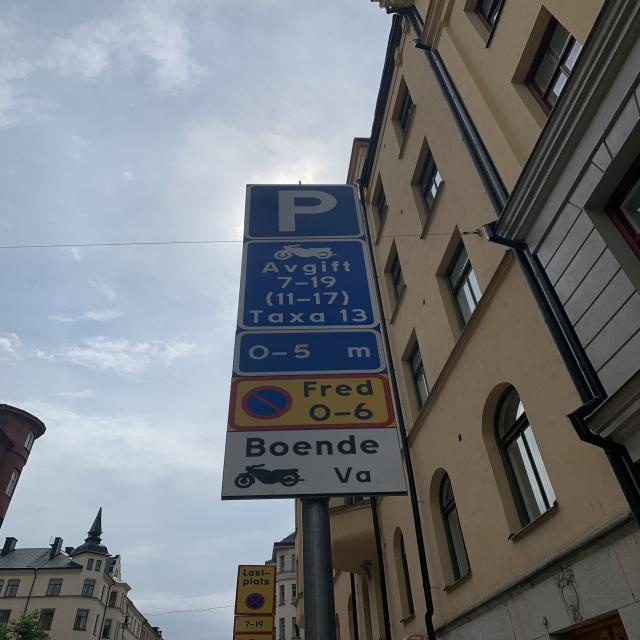P-skylt: (240, 182, 362, 241)
